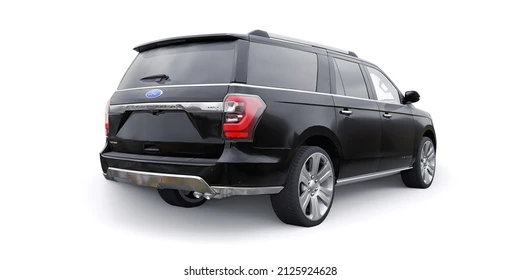car: (97, 27, 442, 228)
